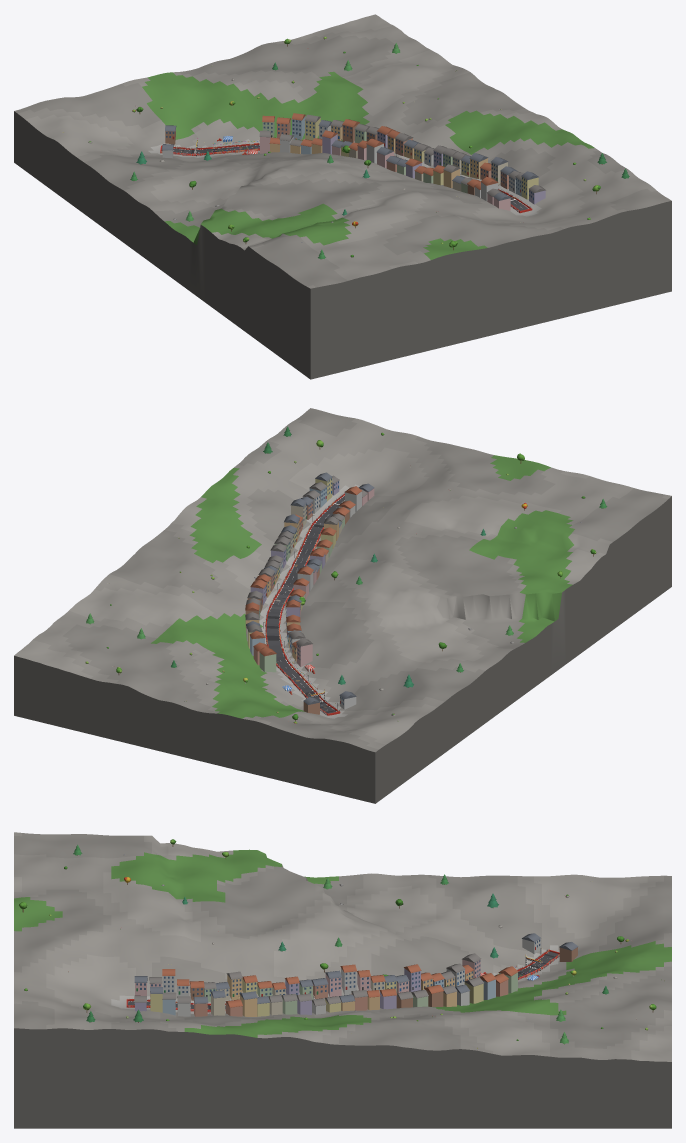
The picture shows the model from 3 angles, top to bottom: view 1: azimuth 30°, elevation 25°; view 2: azimuth 150°, elevation 25°; view 3: azimuth 270°, elevation 25°; orthographic projection. The views are drawn at different scales.
Parts seen in each view (by area): view 1: grass, buildings, pines, hay; view 2: grass, buildings, road, hay, pines; view 3: grass, buildings, pines.
Part boxes in pixels (<box>): grass: <box>14,14,671,379</box>; buildings: <box>162,113,545,210</box>; pines: <box>130,43,629,259</box>; hay: <box>160,142,532,213</box>; grass: <box>14,408,671,803</box>; buildings: <box>245,472,374,714</box>; road: <box>266,496,344,713</box>; hay: <box>265,492,344,715</box>; pines: <box>86,426,607,687</box>; grass: <box>14,832,671,1128</box>; buildings: <box>134,933,578,1016</box>; pines: <box>73,844,608,1043</box>.
Size of the model in its own units: 285 by 76.25 by 405.
